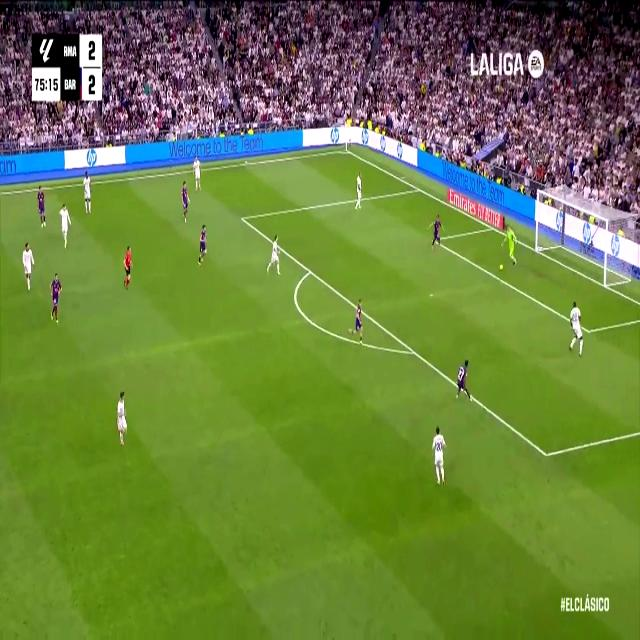bigarea_bottom_inner: (541, 441, 551, 467)
bigarea_top_inner: (240, 212, 244, 224)
bottom_arc_area_intersection: (409, 342, 418, 360)
corner: (342, 145, 350, 155)
smallarea_bottom_inner: (584, 321, 592, 340)
top_arc_area_intersection: (306, 264, 314, 278)
